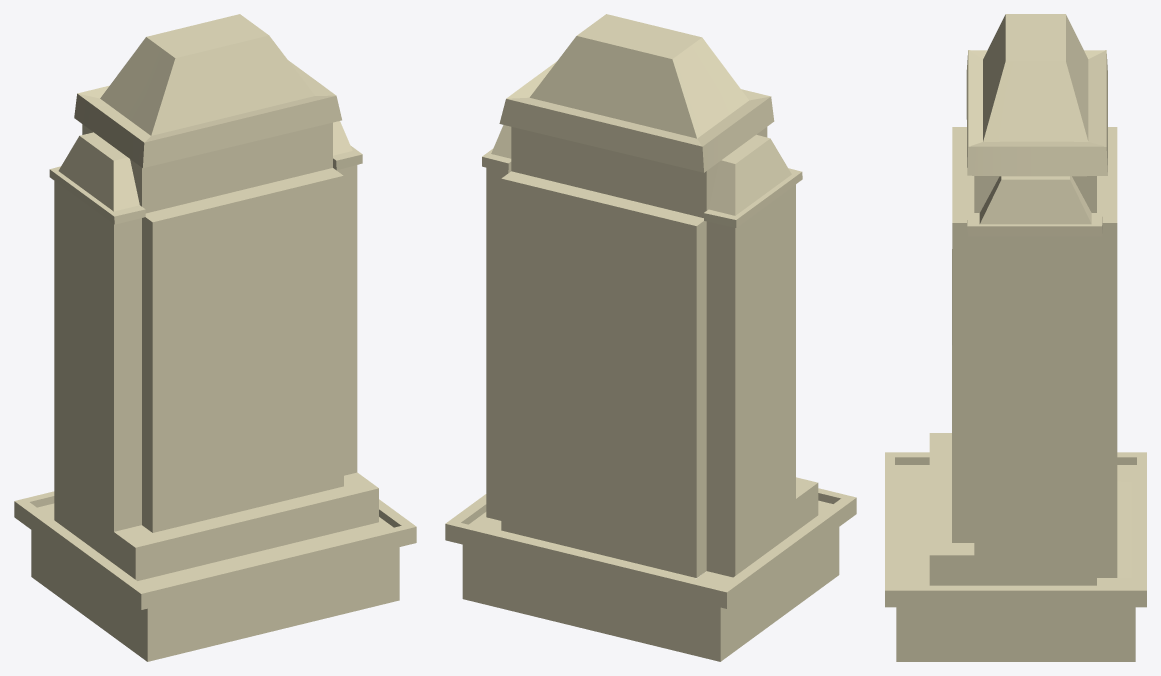
Rendered from building 3.fbx.
The picture shows the model from 3 angles, left to right: view 1: azimuth 30°, elevation 25°; view 2: azimuth 150°, elevation 25°; view 3: azimuth 270°, elevation 25°; orthographic projection. The views are drawn at different scales.
Visible parts, largest first — view 1: immeuble_3:immeuble_3_LD1; view 2: immeuble_3:immeuble_3_LD1; view 3: immeuble_3:immeuble_3_LD1.
Part boxes in pixels (box(x1,y1,x2,y2)): immeuble_3:immeuble_3_LD1: box(14, 14, 416, 661); immeuble_3:immeuble_3_LD1: box(445, 14, 856, 661); immeuble_3:immeuble_3_LD1: box(885, 14, 1146, 661).
Bounding box in the file's own units: 12669 × 23948 × 10108.
